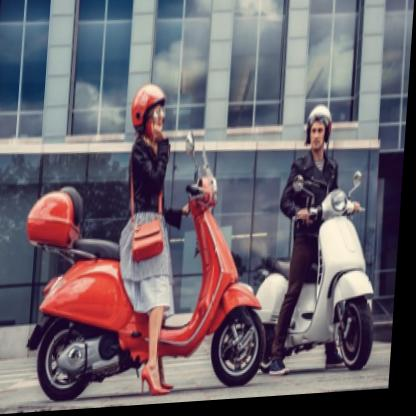With Helmet: (129, 79, 174, 144), (298, 105, 344, 157)
